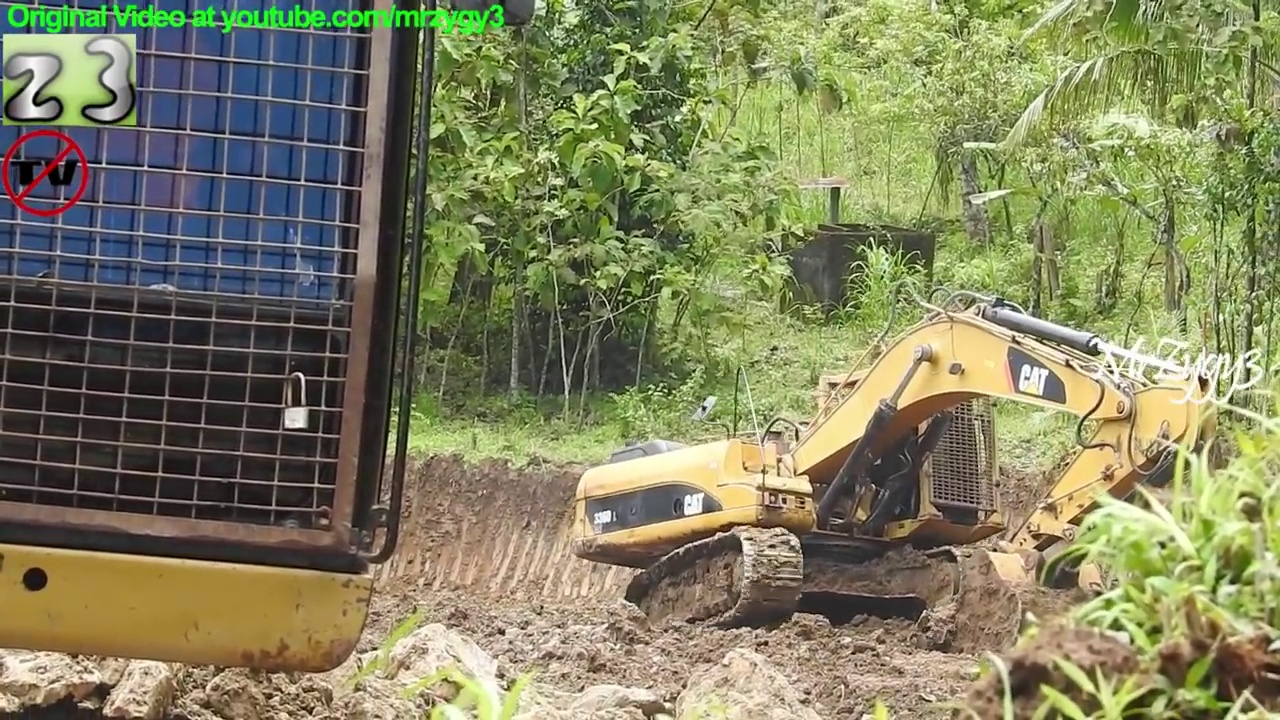excavator: (573, 289, 1213, 640)
